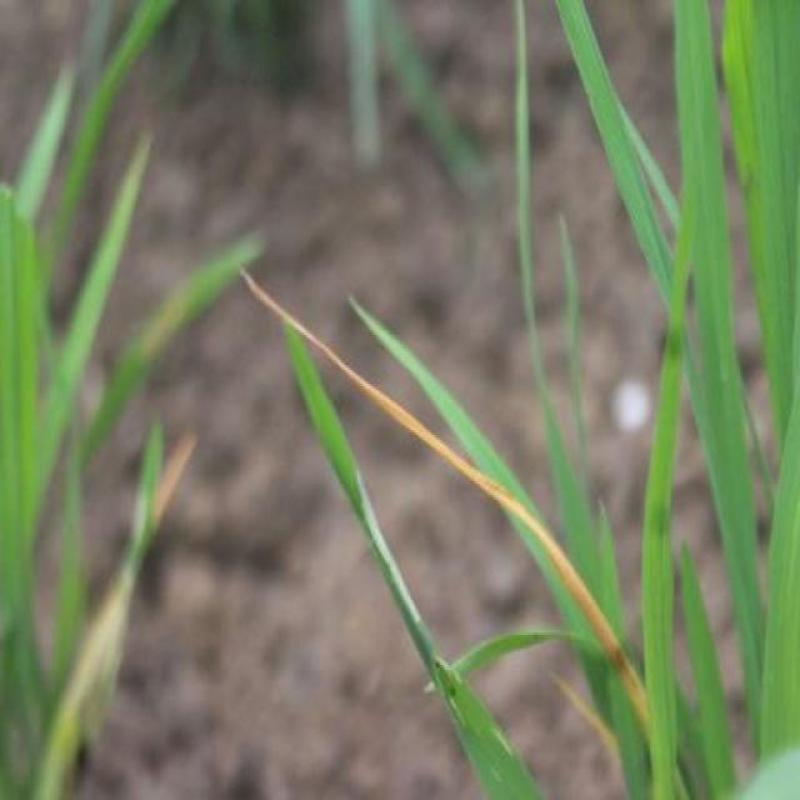Rice Tungro: (555, 544, 625, 671), (348, 358, 432, 454), (458, 440, 532, 516)
